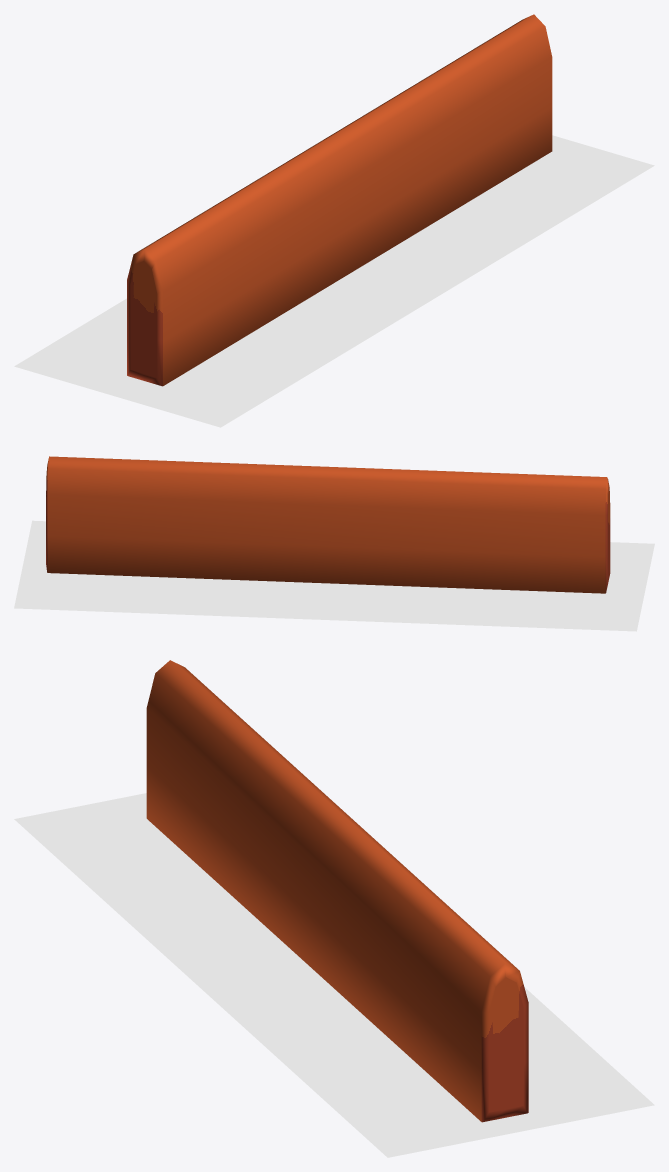
The model's file is NormalContent.fbx.
The picture shows the model from 3 angles, top to bottom: view 1: azimuth 30°, elevation 25°; view 2: azimuth 150°, elevation 25°; view 3: azimuth 270°, elevation 25°; orthographic projection. The views are drawn at different scales.
Visible parts, largest first — view 1: BasicObstacle, Shadow; view 2: BasicObstacle, Shadow; view 3: BasicObstacle, Shadow.
Boxes of the visible parts, left/top/right/bottom form: BasicObstacle: left=127, top=14, right=552, bottom=386; Shadow: left=14, top=135, right=654, bottom=427; BasicObstacle: left=46, top=456, right=610, bottom=593; Shadow: left=14, top=520, right=654, bottom=631; BasicObstacle: left=146, top=660, right=528, bottom=1122; Shadow: left=14, top=793, right=654, bottom=1157.
Size of the model in its own units: 2.14 by 0.3992 by 1.48.
